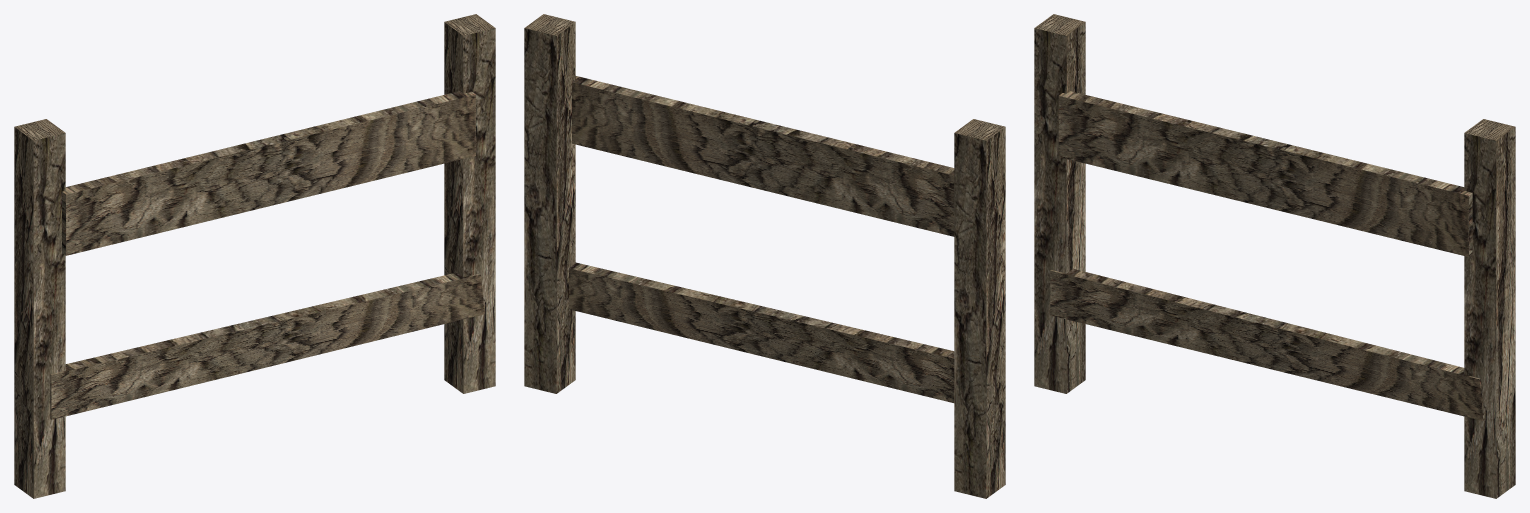
The model's file is Fence.FBX.
The picture shows the model from 3 angles, left to right: view 1: azimuth 30°, elevation 25°; view 2: azimuth 150°, elevation 25°; view 3: azimuth 330°, elevation 25°; orthographic projection.
Parts seen in each view (by area): view 1: Line010, Line009, Box007, Box008; view 2: Line010, Line009, Box007, Box008; view 3: Line010, Line009, Box008, Box007.
Boxes of the visible parts, box(x1,y1,x2,y2) form: Line010: box(62, 91, 475, 255); Line009: box(50, 272, 484, 419); Box007: box(14, 119, 65, 498); Box008: box(444, 14, 495, 393); Line010: box(572, 76, 954, 236); Line009: box(569, 262, 954, 402); Box007: box(954, 119, 1005, 498); Box008: box(524, 14, 575, 393); Line010: box(1058, 91, 1472, 256); Line009: box(1050, 269, 1484, 420); Box008: box(1464, 119, 1515, 498); Box007: box(1034, 14, 1085, 393).
Size of the model in its own units: 69.39 by 51.4 by 6.05.
Materials: 1 (1 with a texture image).
